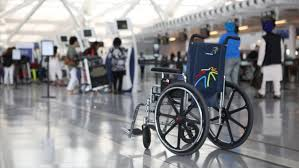wheelchair: (123, 33, 248, 150)
